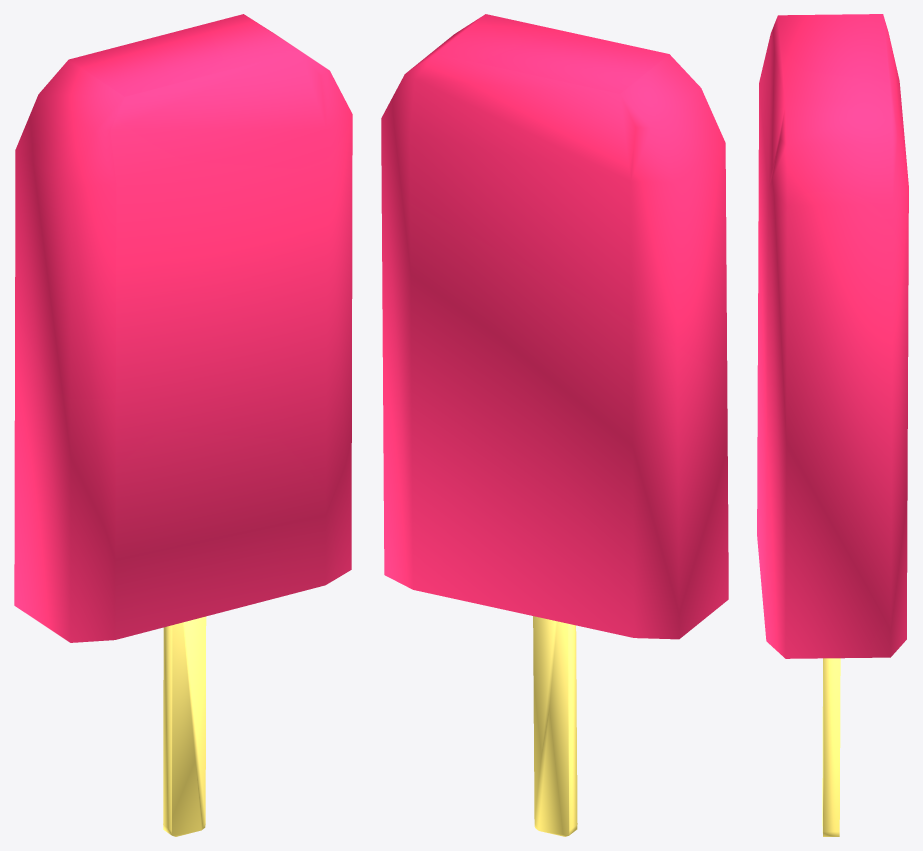
The model's file is pink_popsicle.glb.
3 views of the same model, side by side, from view 1: azimuth 30°, elevation 25°; view 2: azimuth 150°, elevation 25°; view 3: azimuth 270°, elevation 25° (orthographic).
Visible parts, largest first — view 1: Pink_Popsicle; view 2: Pink_Popsicle; view 3: Pink_Popsicle.
Boxes of the visible parts, x1=… form: Pink_Popsicle: x1=14, y1=14, x2=352, y2=836; Pink_Popsicle: x1=381, y1=14, x2=728, y2=836; Pink_Popsicle: x1=757, y1=14, x2=908, y2=836.
Size of the model in its own units: 0.3971 by 1 by 0.1787.
1 material, 1 textured.
